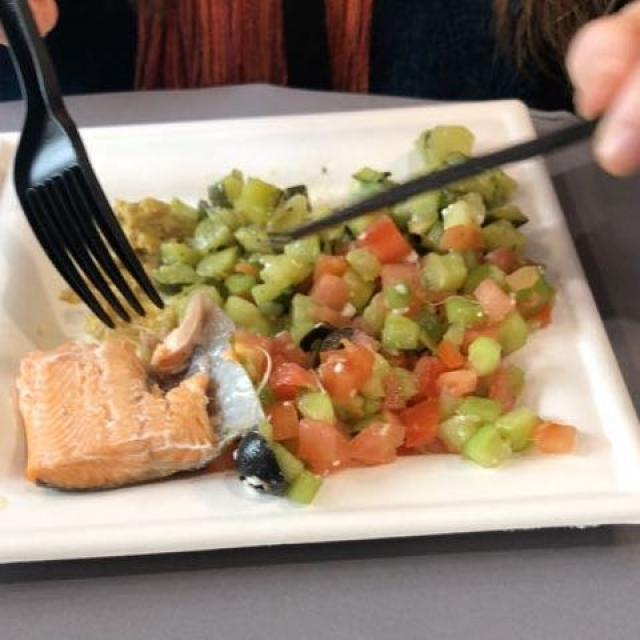ratatouille: (153, 123, 551, 464)
salmon: (14, 302, 257, 490)
